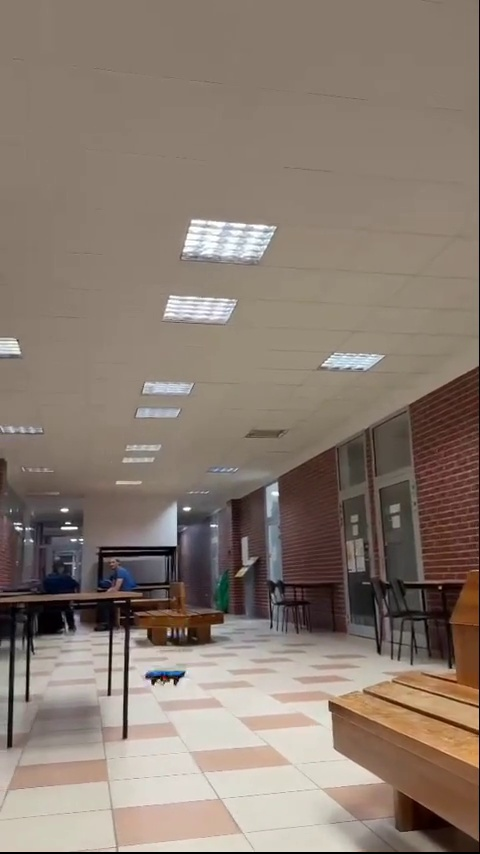drone: (143, 668, 186, 686)
no vest: (36, 554, 78, 626), (101, 553, 134, 602)
